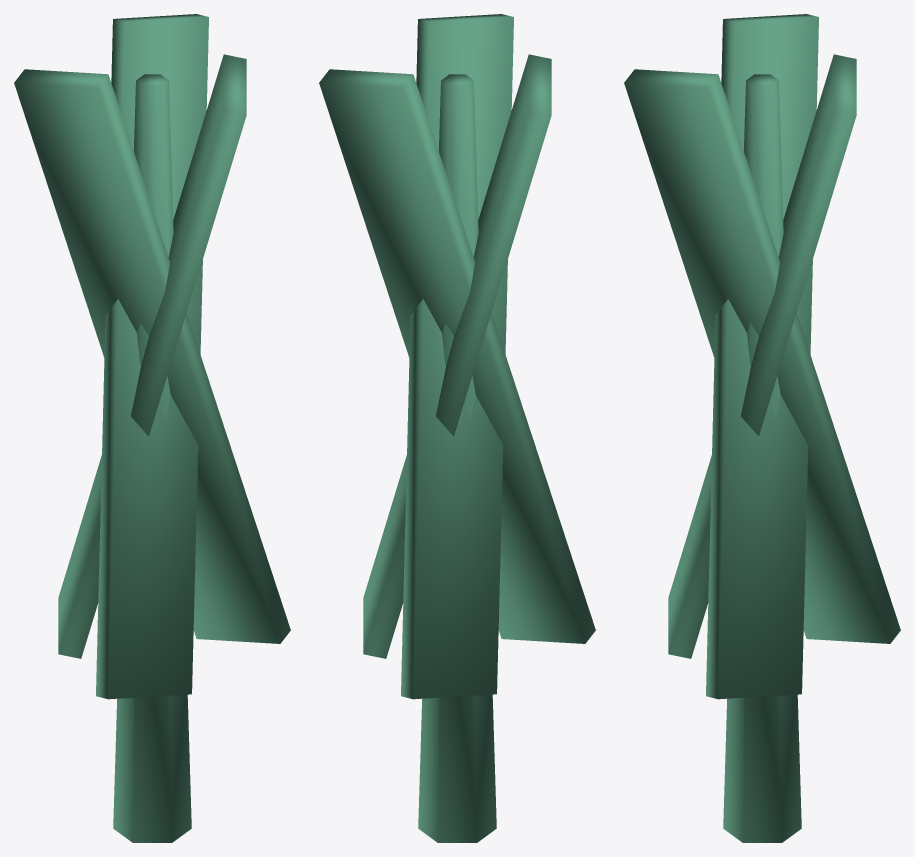
File: SM_AF_Foliage_Reed_LOD1.glb
The picture shows the model from 3 angles, left to right: view 1: azimuth 30°, elevation 25°; view 2: azimuth 150°, elevation 25°; view 3: azimuth 270°, elevation 25°; orthographic projection.
Visible parts, largest first — view 1: SM_AF_Foliage_Reed_LOD1; view 2: SM_AF_Foliage_Reed_LOD1; view 3: SM_AF_Foliage_Reed_LOD1.
Part boxes in pixels (x1,y1,x2,y2): SM_AF_Foliage_Reed_LOD1: [14, 14, 290, 842]; SM_AF_Foliage_Reed_LOD1: [319, 14, 595, 842]; SM_AF_Foliage_Reed_LOD1: [624, 14, 900, 842].
Size of the model in its own units: 0.41 by 1.31 by 0.4227.
